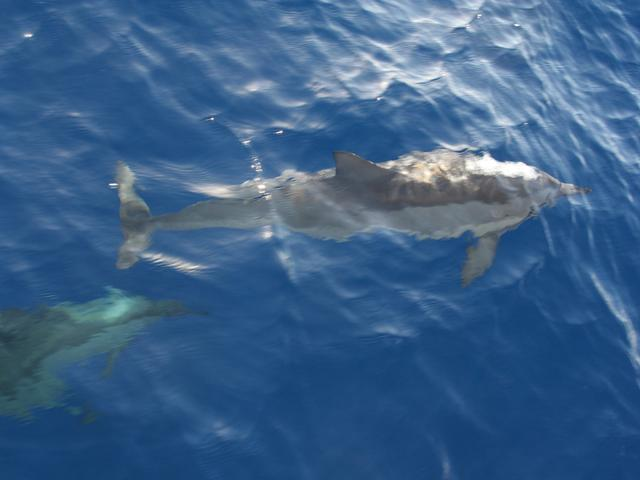dolphin: (48, 94, 627, 278)
